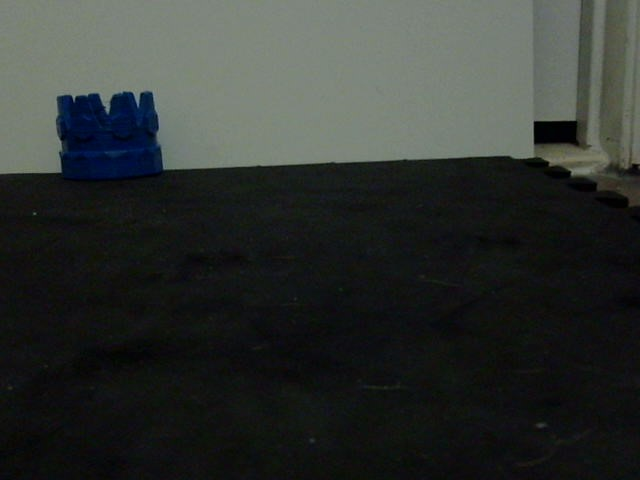crown: (54, 90, 165, 180)
